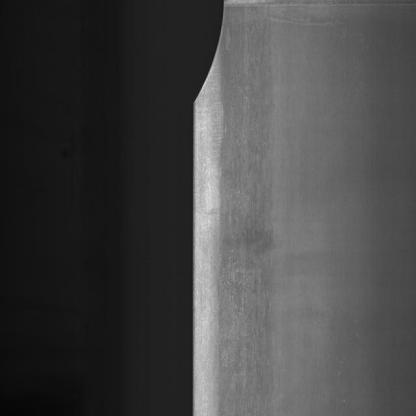crescent_gap: (182, 0, 237, 114)
